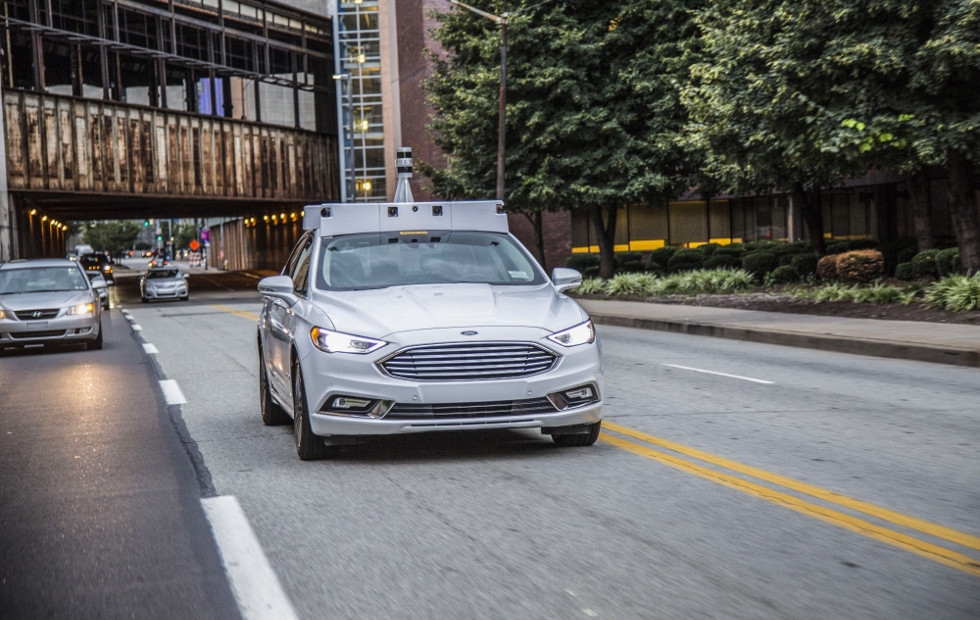car: (255, 214, 602, 452), (2, 256, 100, 351), (140, 269, 187, 301), (87, 270, 114, 309)
